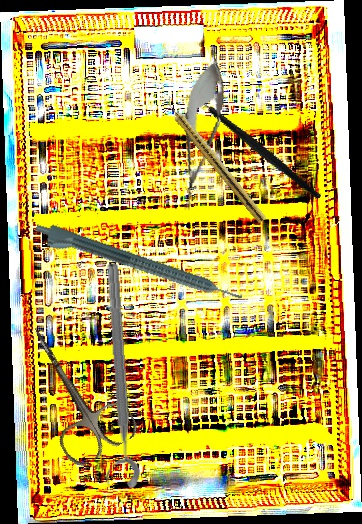Chopper: (179, 60, 323, 233)
Fixation Ring: (88, 262, 141, 491)
Handpiece: (30, 219, 245, 314), (160, 94, 270, 225)
Iris Scissors: (3, 308, 142, 471)
Micro Scissor: (167, 54, 234, 215)
